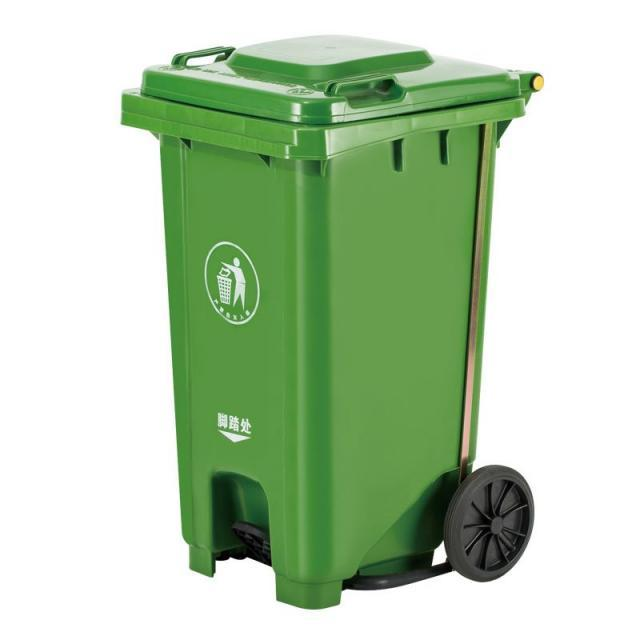Dumpster: (119, 32, 546, 613)
